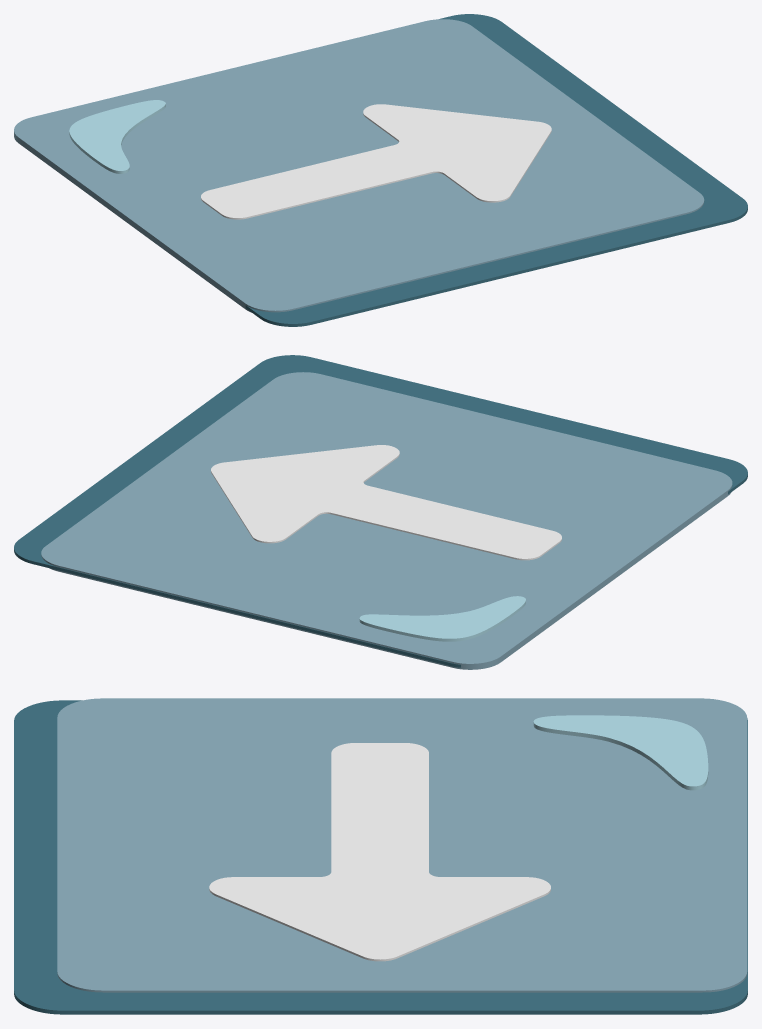
File: emoji_u27a1.glb
3 renders of one model, top to bottom at view 1: azimuth 30°, elevation 25°; view 2: azimuth 150°, elevation 25°; view 3: azimuth 270°, elevation 25°, orthographic. The views are drawn at different scales.
Parts seen in each view (by area): view 1: emoji_u27a1; view 2: emoji_u27a1; view 3: emoji_u27a1.
Boxes of the visible parts, left/top/right/bottom form: emoji_u27a1: left=14, top=14, right=747, bottom=326; emoji_u27a1: left=14, top=355, right=747, bottom=669; emoji_u27a1: left=14, top=698, right=747, bottom=1014.
Size of the model in its own units: 0.0339 by 0.0008 by 0.0339.
